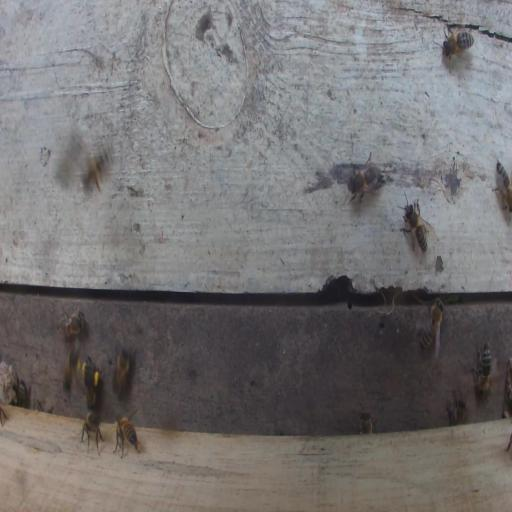bee: (401, 197, 435, 257), (346, 151, 385, 203), (419, 297, 445, 355), (83, 146, 113, 194), (471, 340, 492, 395), (442, 26, 475, 60), (493, 157, 512, 216), (114, 414, 140, 457), (62, 339, 82, 393), (80, 411, 103, 455), (82, 354, 99, 410), (113, 346, 131, 398), (57, 310, 85, 340), (447, 391, 467, 425), (359, 409, 375, 435)
